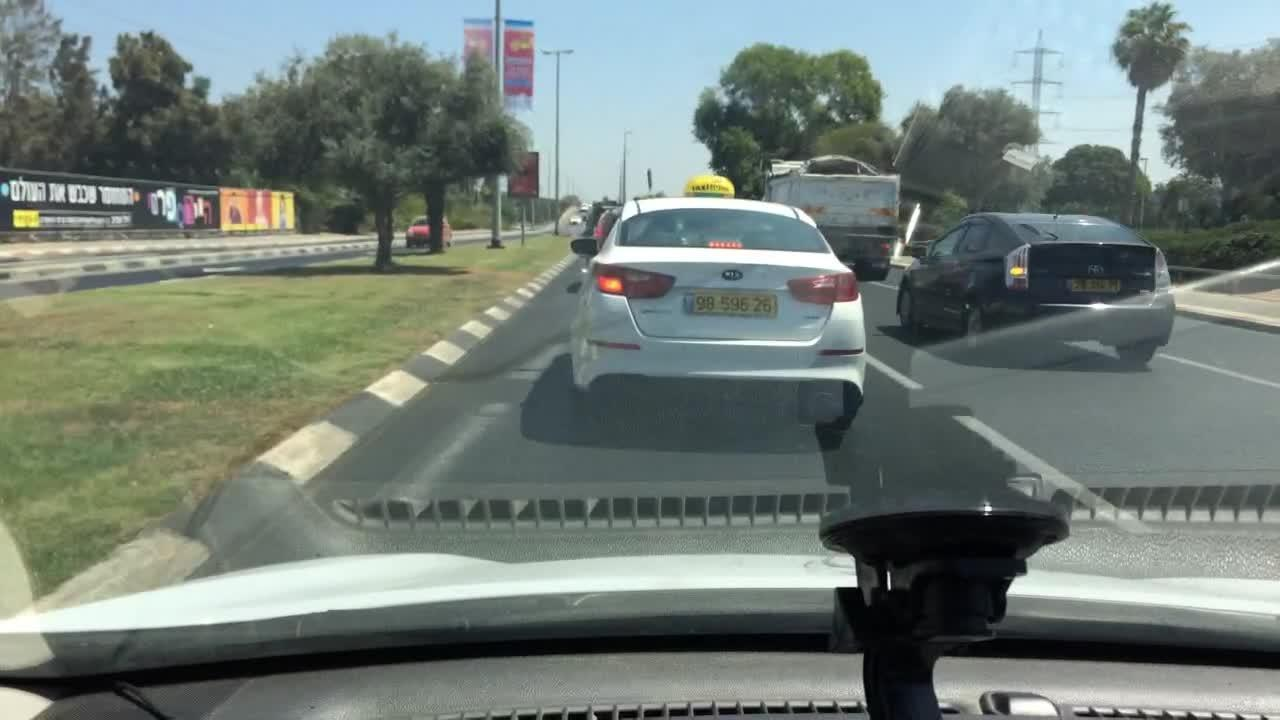kia: (718, 264, 748, 286)
